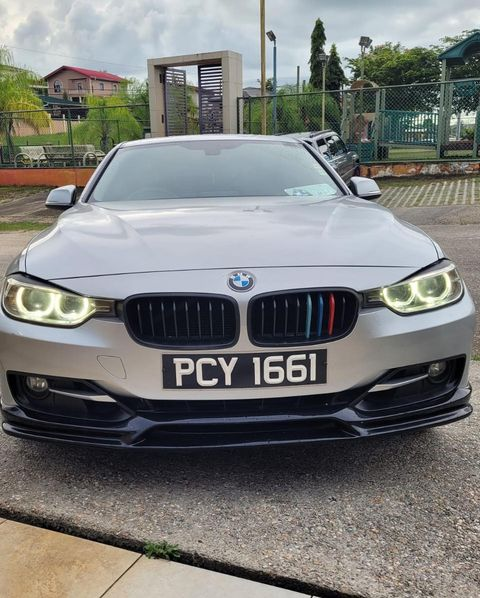License-Plate: (162, 355, 326, 388)
